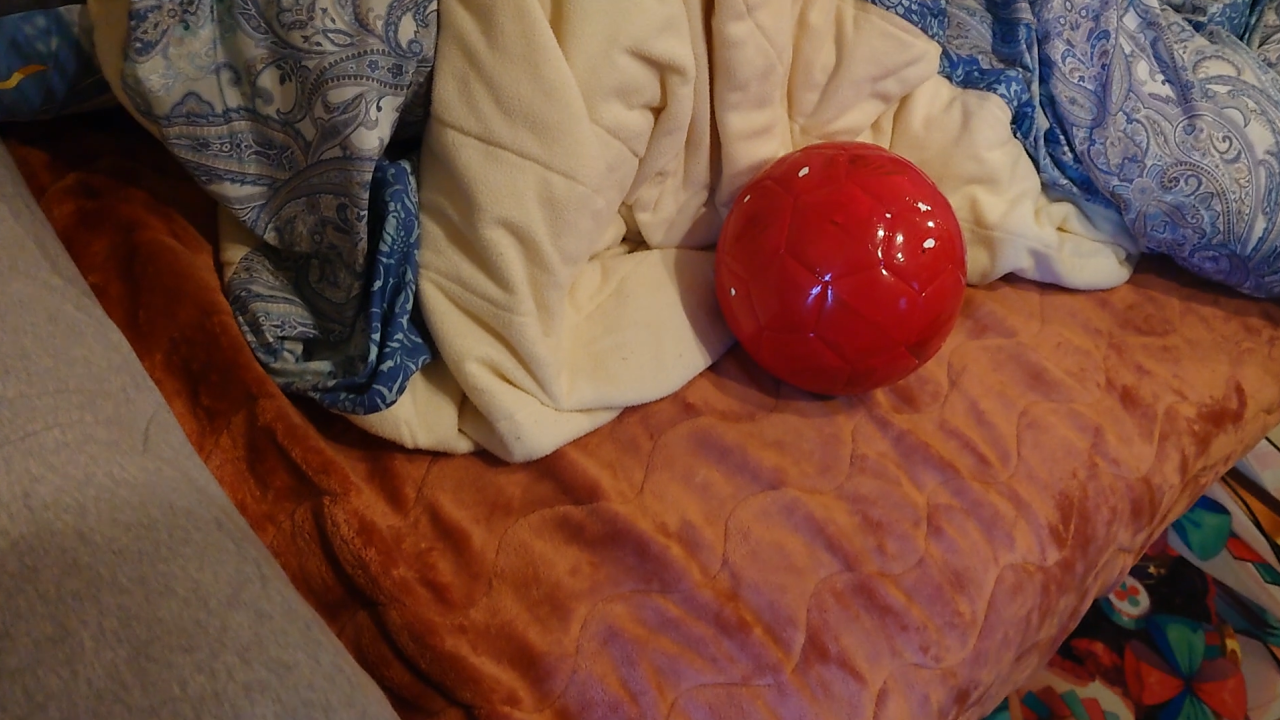red: (715, 143, 968, 395)
